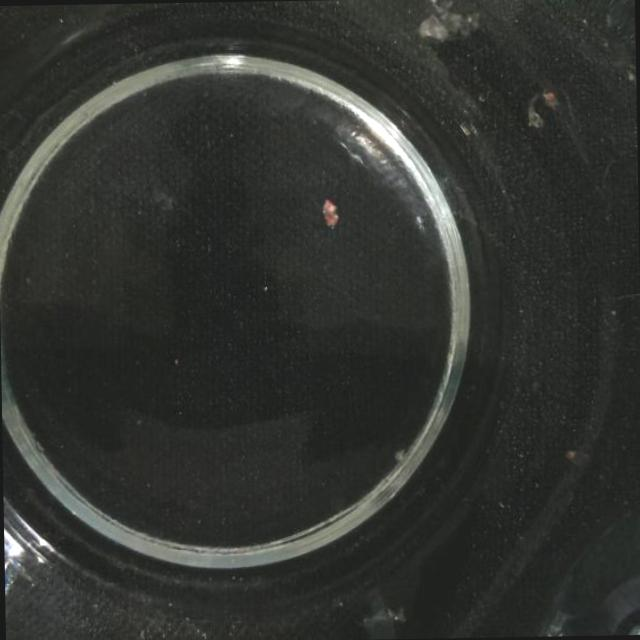fiber: (413, 0, 486, 50), (348, 594, 406, 640), (524, 86, 562, 134), (321, 194, 340, 230), (564, 446, 588, 464), (393, 447, 410, 470)
